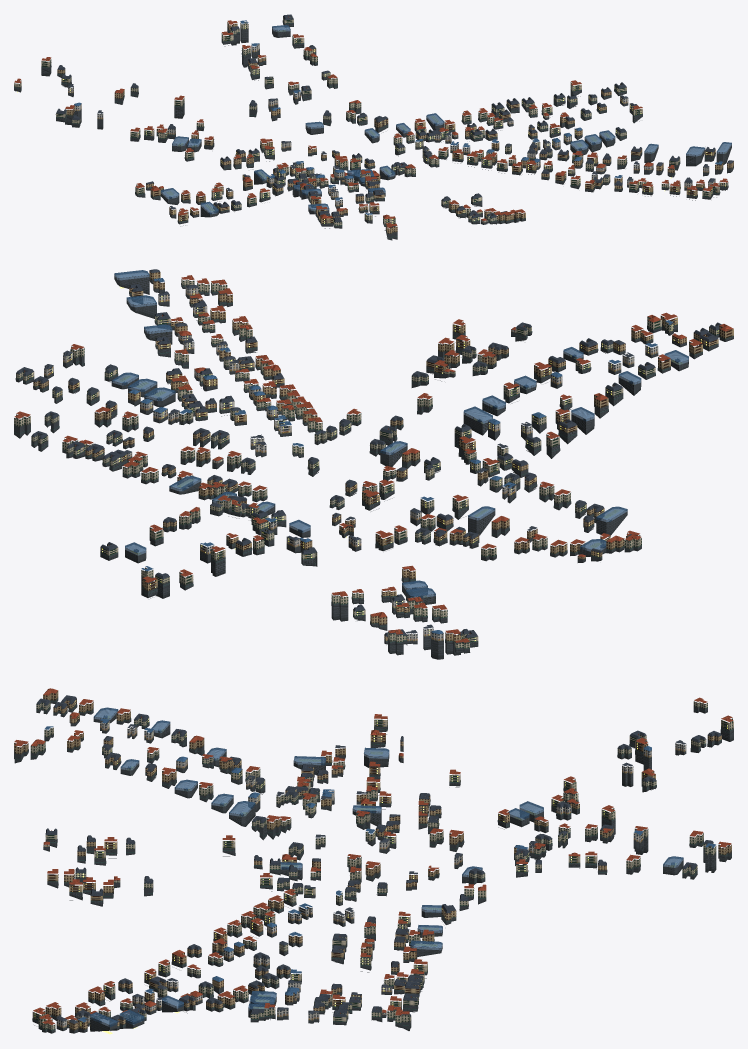
The model's file is osm_buildings_T_W02_S01_Q4.glb.
The picture shows the model from 3 angles, top to bottom: view 1: azimuth 30°, elevation 25°; view 2: azimuth 150°, elevation 25°; view 3: azimuth 270°, elevation 25°; orthographic projection. The views are drawn at different scales.
Visible parts, largest first — view 1: OSM_T_W02_S01_Q4_foundation, OSM_T_W02_S01_Q4_wall_cream_stucco, OSM_T_W02_S01_Q4_wall_french_ochre, OSM_T_W02_S01_Q4_roof_terracotta, OSM_T_W02_S01_Q4_roof_mansard_slate, OSM_T_W02_S01_Q4_greenhouse_blend, OSM_T_W02_S01_Q4_roof_mansard_deck, OSM_T_W02_S01_Q4_wall_warm_white, OSM_T_W02_S01_Q4_roof_mint_metal, OSM_T_W02_S01_Q4_balcony_railing, OSM_T_W02_S01_Q4_trim_cornice, OSM_T_W02_S01_Q4_roof_alpine_blue (+2 smaller); view 2: OSM_T_W02_S01_Q4_foundation, OSM_T_W02_S01_Q4_wall_cream_stucco, OSM_T_W02_S01_Q4_wall_french_ochre, OSM_T_W02_S01_Q4_roof_terracotta, OSM_T_W02_S01_Q4_roof_mansard_slate, OSM_T_W02_S01_Q4_greenhouse_blend, OSM_T_W02_S01_Q4_roof_mansard_deck, OSM_T_W02_S01_Q4_roof_mint_metal, OSM_T_W02_S01_Q4_wall_warm_white, OSM_T_W02_S01_Q4_trim_cornice, OSM_T_W02_S01_Q4_wall_pastel_sand, OSM_T_W02_S01_Q4_roof_alpine_blue (+2 smaller); view 3: OSM_T_W02_S01_Q4_foundation, OSM_T_W02_S01_Q4_wall_cream_stucco, OSM_T_W02_S01_Q4_wall_french_ochre, OSM_T_W02_S01_Q4_roof_terracotta, OSM_T_W02_S01_Q4_roof_mansard_slate, OSM_T_W02_S01_Q4_greenhouse_blend, OSM_T_W02_S01_Q4_roof_mansard_deck, OSM_T_W02_S01_Q4_wall_warm_white, OSM_T_W02_S01_Q4_roof_mint_metal, OSM_T_W02_S01_Q4_trim_cornice, OSM_T_W02_S01_Q4_roof_alpine_blue, OSM_T_W02_S01_Q4_wall_pastel_sand (+2 smaller).
Part boxes in pixels (x1,y1,x2,y2): OSM_T_W02_S01_Q4_foundation: (14,20,733,240); OSM_T_W02_S01_Q4_wall_cream_stucco: (14,17,728,225); OSM_T_W02_S01_Q4_wall_french_ochre: (57,21,733,233); OSM_T_W02_S01_Q4_roof_terracotta: (14,16,727,227); OSM_T_W02_S01_Q4_roof_mansard_slate: (56,15,733,222); OSM_T_W02_S01_Q4_greenhouse_blend: (160,25,731,214); OSM_T_W02_S01_Q4_roof_mansard_deck: (57,14,724,220); OSM_T_W02_S01_Q4_wall_warm_white: (68,85,692,197); OSM_T_W02_S01_Q4_roof_mint_metal: (14,22,726,237); OSM_T_W02_S01_Q4_balcony_railing: (15,24,725,230); OSM_T_W02_S01_Q4_trim_cornice: (41,16,730,231); OSM_T_W02_S01_Q4_roof_alpine_blue: (74,20,722,214); OSM_T_W02_S01_Q4_foundation: (14,276,733,659); OSM_T_W02_S01_Q4_wall_cream_stucco: (14,279,719,648); OSM_T_W02_S01_Q4_wall_french_ochre: (33,271,733,642); OSM_T_W02_S01_Q4_roof_terracotta: (14,275,733,642); OSM_T_W02_S01_Q4_roof_mansard_slate: (16,269,719,637); OSM_T_W02_S01_Q4_greenhouse_blend: (111,270,688,597); OSM_T_W02_S01_Q4_roof_mansard_deck: (18,275,721,635); OSM_T_W02_S01_Q4_roof_mint_metal: (14,283,732,648); OSM_T_W02_S01_Q4_wall_warm_white: (44,305,634,641); OSM_T_W02_S01_Q4_trim_cornice: (14,272,731,646); OSM_T_W02_S01_Q4_wall_pastel_sand: (85,286,658,636); OSM_T_W02_S01_Q4_roof_alpine_blue: (128,278,673,633); OSM_T_W02_S01_Q4_foundation: (14,698,733,1033); OSM_T_W02_S01_Q4_wall_cream_stucco: (30,701,733,1030); OSM_T_W02_S01_Q4_wall_french_ochre: (14,691,731,1030); OSM_T_W02_S01_Q4_roof_terracotta: (14,688,733,1024); OSM_T_W02_S01_Q4_roof_mansard_slate: (36,697,721,1023); OSM_T_W02_S01_Q4_greenhouse_blend: (90,707,683,1027); OSM_T_W02_S01_Q4_roof_mansard_deck: (38,695,719,1026); OSM_T_W02_S01_Q4_wall_warm_white: (76,726,686,1023); OSM_T_W02_S01_Q4_roof_mint_metal: (14,699,732,1030); OSM_T_W02_S01_Q4_trim_cornice: (14,691,732,1028); OSM_T_W02_S01_Q4_roof_alpine_blue: (44,718,715,1022); OSM_T_W02_S01_Q4_wall_pastel_sand: (43,721,643,1028).
Bounding box in the file's own units: 962 × 157 × 940.
Materials: 16 (16 with a texture image).
